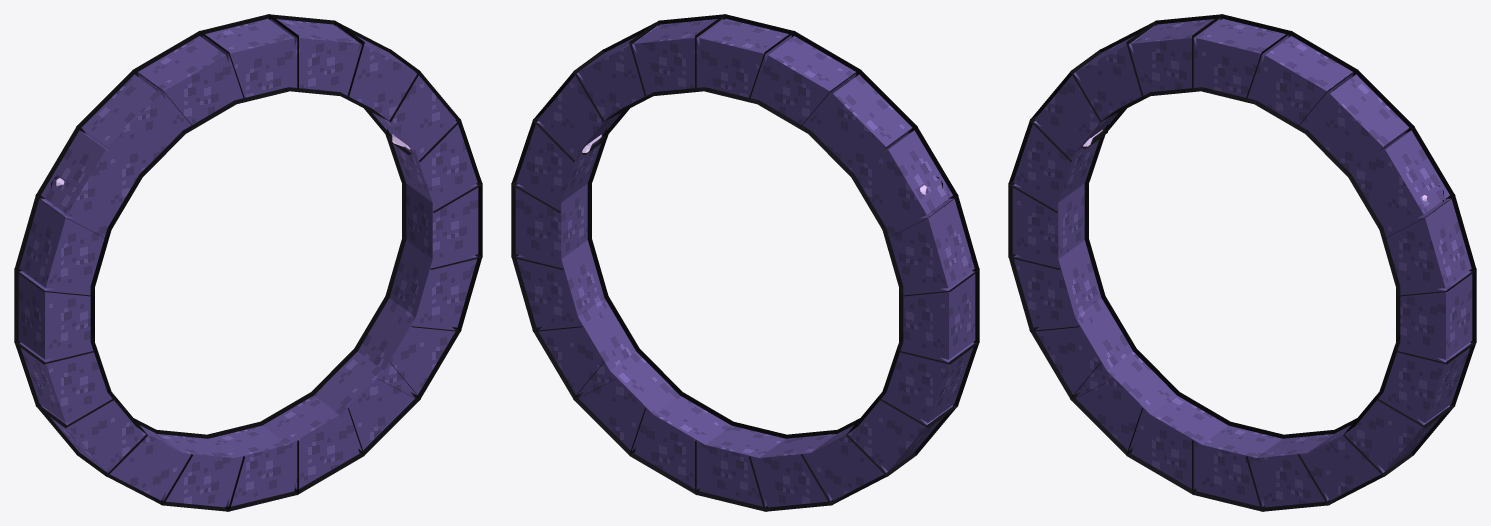
Rendered from env_cosmic_ring_arch.glb.
3 renders of one model, left to right at view 1: azimuth 30°, elevation 25°; view 2: azimuth 150°, elevation 25°; view 3: azimuth 330°, elevation 25°, orthographic.
Parts seen in each view (by area): view 1: model; view 2: model; view 3: model.
Part boxes in pixels (left/top/right/bottom): model: left=14, top=14, right=482, bottom=511; model: left=511, top=14, right=979, bottom=511; model: left=1008, top=14, right=1476, bottom=511.
Bounding box in the file's own units: 3.17 × 3.17 × 0.3696.
Materials: 3 (2 with a texture image).
